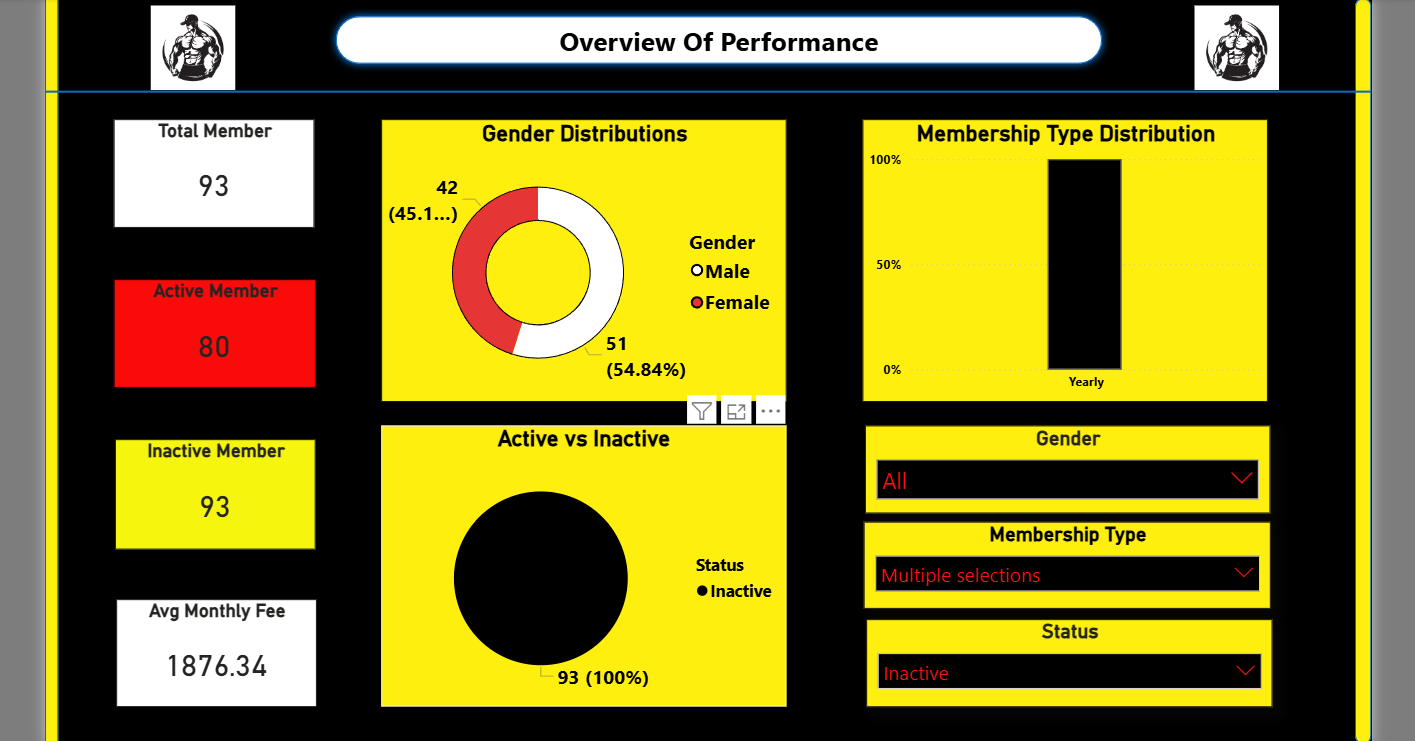

The page's visual inventory and layout, read from the dashboard file:
{"tool":"powerbi","page":{"name":"Overview Of Performances","canvas":[1280,720],"ordinal":0},"visuals":[{"type":"image","box":[13,7.8,259.7,81.8],"z":0},{"type":"card","title":"Total Member","fields":{"Values":["GymData.Total Members"]},"box":[66.7,117.3,193.8,104.9],"z":1000},{"type":"card","title":"Active Member","fields":{"Values":["GymData.Active Members"]},"box":[66.2,271.4,194.8,105.2],"z":2000},{"type":"card","title":"Inactive Member","fields":{"Values":["GymData.Inactive Members"]},"box":[67.5,426,193.5,106.5],"z":3000},{"type":"card","title":"Avg Monthly Fee ","fields":{"Values":["Avg(GymData.Monthly_Fee)"]},"box":[68.8,580.5,193.5,103.9],"z":4000},{"type":"donutChart","title":"Gender Distributions","fields":{"Category":["GymData.Gender"],"Y":["CountNonNull(GymData.Member_ID)"]},"box":[324.3,117.1,391.4,272.9],"z":5000},{"type":"hundredPercentStackedColumnChart","title":"Membership Type Distribution","fields":{"Category":["GymData.Membership_Type"],"Y":["CountNonNull(GymData.Member_ID)"]},"box":[788.6,117.1,391.4,272.9],"z":6000},{"type":"pieChart","title":"Active vs Inactive","fields":{"Category":["GymData.Status"],"Y":["CountNonNull(GymData.Member_ID)"]},"box":[324.3,412.9,391.4,271.4],"z":7000},{"type":"slicer","title":"Gender","fields":{"Values":["GymData.Gender"]},"box":[790.9,413,390.9,84.4],"z":8000},{"type":"slicer","title":"Membership Type","fields":{"Values":["GymData.Membership_Type"]},"box":[790,505.7,392.9,84.3],"z":9000},{"type":"slicer","title":"Status","fields":{"Values":["GymData.Status"]},"box":[792.2,600,392.2,84.4],"z":10000},{"type":"shape","box":[1264.3,0,15.7,720],"z":11000},{"type":"shape","box":[0,0,12.9,720],"z":12000},{"type":"shape","box":[272.8,9.9,755.6,61.7],"z":13000},{"type":"shape","box":[0,40.7,1280.2,98.8],"z":14000},{"type":"image","box":[1020.8,7.8,259.7,81.8],"z":15000}]}

Visuals, with their boxes on the page's 1280x720 design canvas (x1, y1, x2, y2). These are canvas units, not pixel positions in the 1415x741 screenshot, which may show the page scaled, cropped or inside an application window:
image: <box>13,8,273,90</box>
"Total Member" card: <box>67,117,260,222</box>
"Active Member" card: <box>66,271,261,377</box>
"Inactive Member" card: <box>68,426,261,532</box>
"Avg Monthly Fee " card: <box>69,580,262,684</box>
"Gender Distributions" donutChart: <box>324,117,716,390</box>
"Membership Type Distribution" hundredPercentStackedColumnChart: <box>789,117,1180,390</box>
"Active vs Inactive" pieChart: <box>324,413,716,684</box>
"Gender" slicer: <box>791,413,1182,497</box>
"Membership Type" slicer: <box>790,506,1183,590</box>
"Status" slicer: <box>792,600,1184,684</box>
shape: <box>1264,0,1280,720</box>
shape: <box>0,0,13,720</box>
shape: <box>273,10,1028,72</box>
shape: <box>0,41,1280,140</box>
image: <box>1021,8,1280,90</box>
